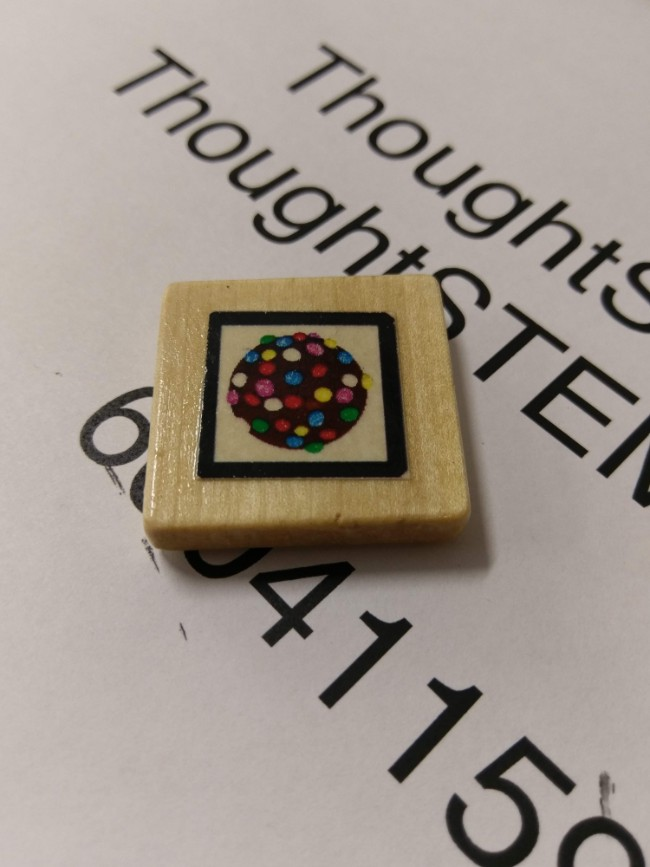cookie: (204, 313, 402, 476)
